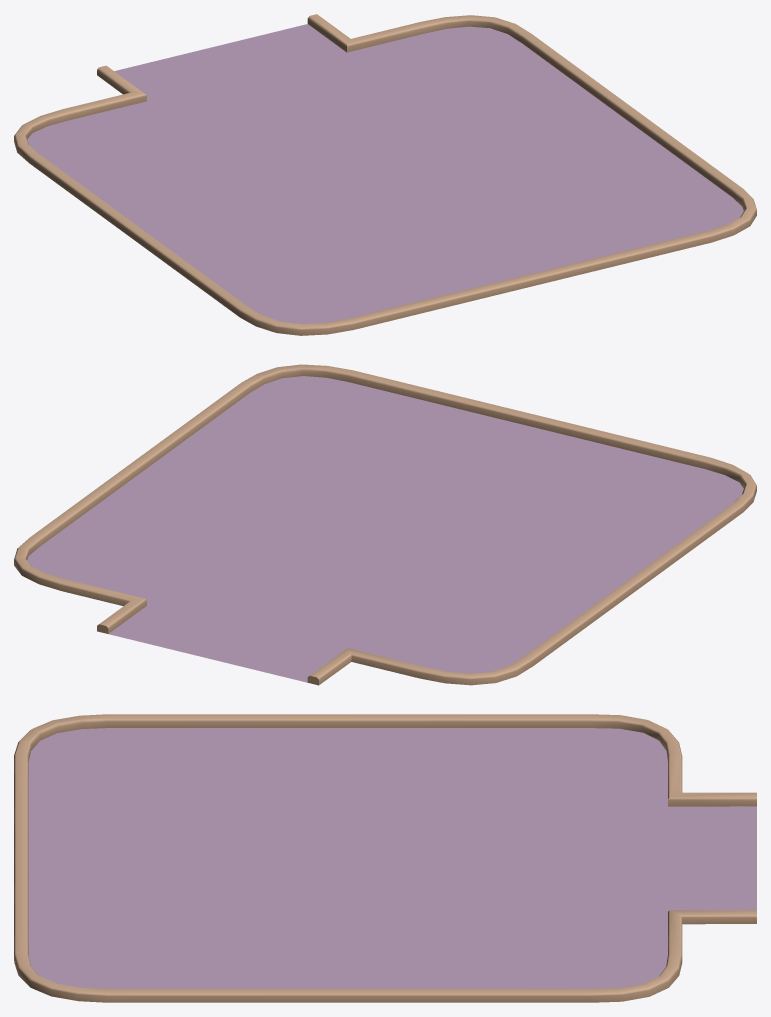
The model's file is LuffyRoad_Stage65.fbx.
3 views of the same model, one above another, from view 1: azimuth 30°, elevation 25°; view 2: azimuth 150°, elevation 25°; view 3: azimuth 270°, elevation 25° (orthographic). The views are drawn at different scales.
Parts seen in each view (by area): view 1: LUFFY_Road_stage_large, LUFFY_Road_stage_large3; view 2: LUFFY_Road_stage_large, LUFFY_Road_stage_large3; view 3: LUFFY_Road_stage_large, LUFFY_Road_stage_large3.
Boxes of the visible parts, x1,y1,x2,y2 form: LUFFY_Road_stage_large: (27, 24, 743, 323); LUFFY_Road_stage_large3: (14, 14, 756, 335); LUFFY_Road_stage_large: (27, 376, 743, 682); LUFFY_Road_stage_large3: (14, 364, 756, 685); LUFFY_Road_stage_large: (28, 728, 756, 988); LUFFY_Road_stage_large3: (14, 714, 756, 1002).
Bounding box in the file's own units: 1362 × 20.26 × 1523.
